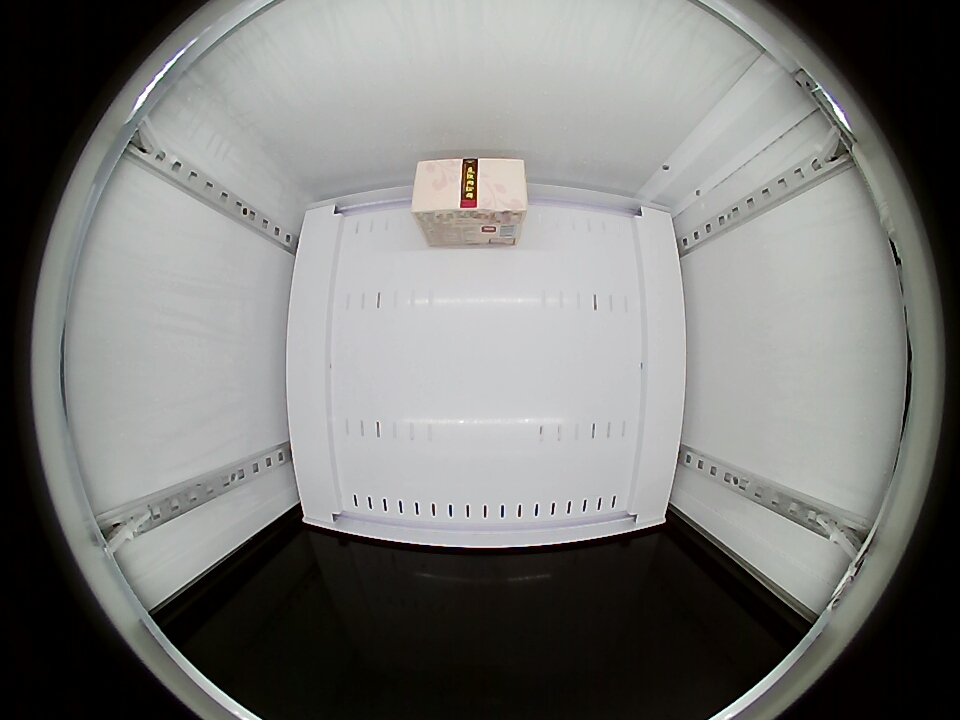rousongbing: (411, 156, 529, 242)
